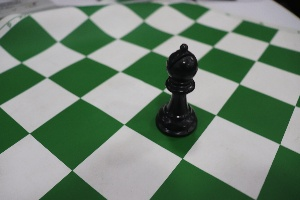black_bishop: (151, 36, 208, 142)
